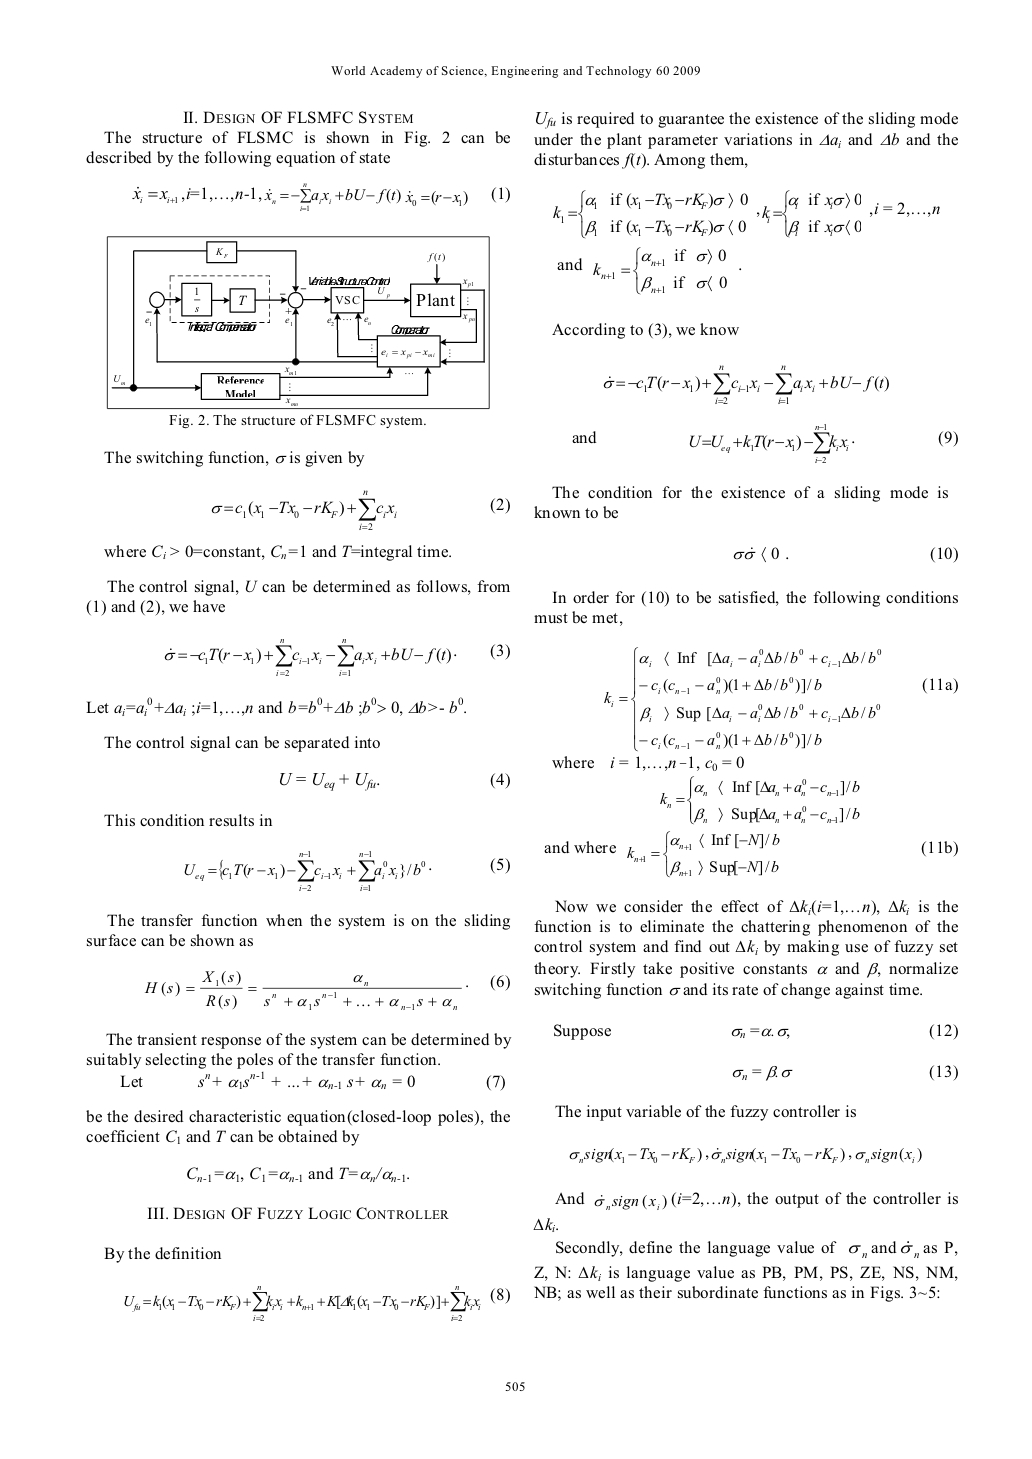figure: (106, 236, 489, 410)
formula: (604, 645, 957, 752), (544, 831, 957, 879), (553, 189, 939, 239), (572, 423, 957, 463), (144, 970, 509, 1010), (184, 850, 509, 891), (164, 639, 509, 676), (124, 1286, 509, 1319), (211, 490, 509, 529), (132, 182, 509, 211), (603, 365, 888, 403), (660, 775, 859, 825), (557, 244, 740, 295), (120, 1071, 504, 1091), (554, 1023, 957, 1040), (280, 772, 509, 791), (733, 545, 957, 563), (732, 1064, 957, 1081)
